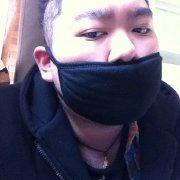WRONG: (52, 6, 165, 119)
